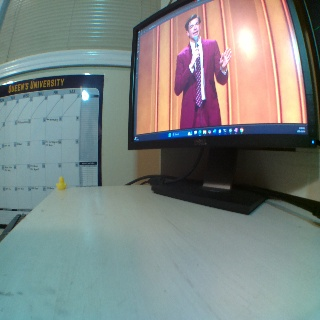duck_regular: (56, 175, 67, 191)
